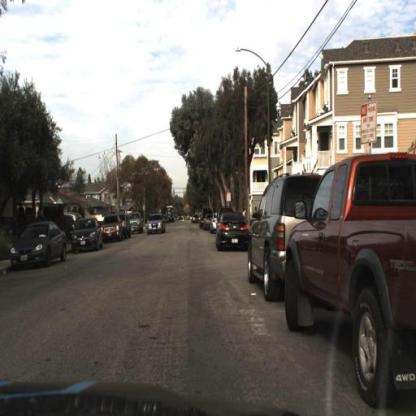car: (286, 153, 416, 412), (247, 170, 316, 311), (10, 218, 68, 268), (215, 210, 251, 254), (69, 218, 104, 254), (102, 214, 123, 242), (146, 212, 165, 238), (62, 210, 85, 229), (128, 211, 144, 236), (120, 211, 132, 240), (123, 215, 133, 240), (209, 212, 219, 234)
truck: (165, 205, 174, 223)
